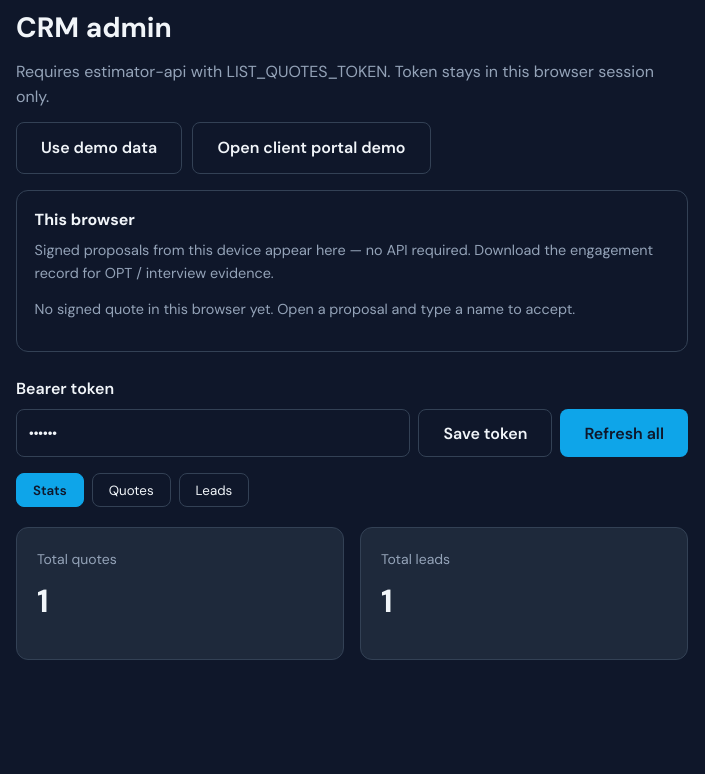
it: CrmAdmin › renders live rows that omit status and add-ons
Later steps or results of the test are not shown.
Click the tab "Quotes" at (131, 490), box [92,474,171,507]
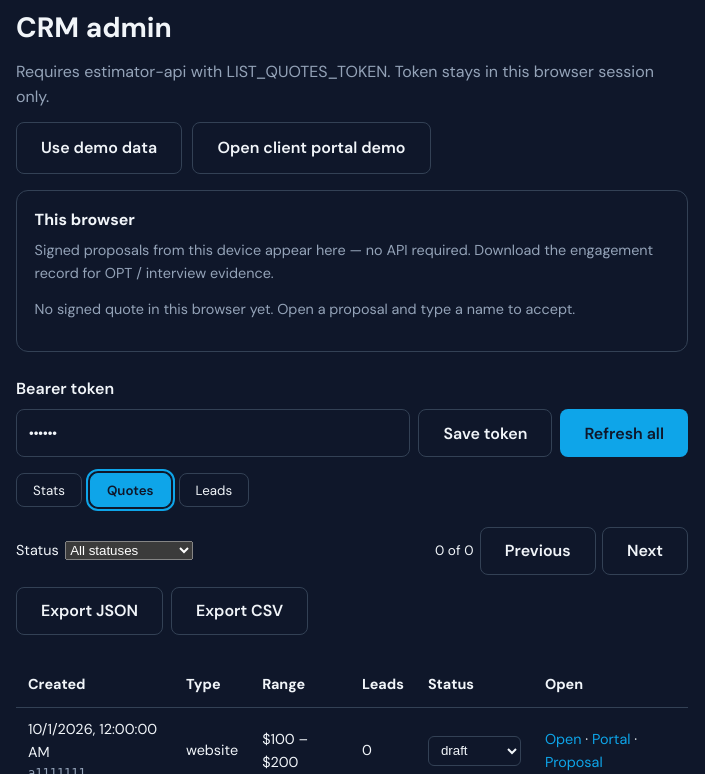
Result: the dropdown named "Status a1111111-1111-4111-8111-111111111111" shows "draft" at [428,736,521,766]
